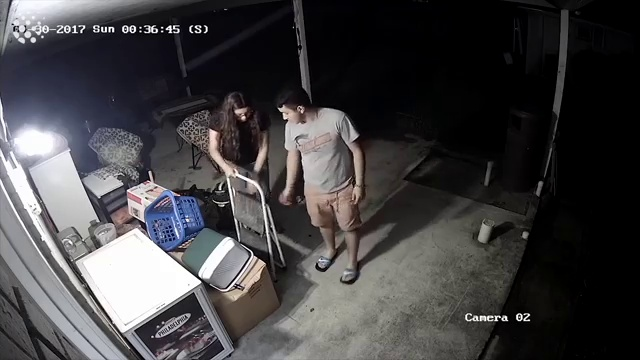face: (279, 102, 299, 127), (234, 108, 253, 122)
